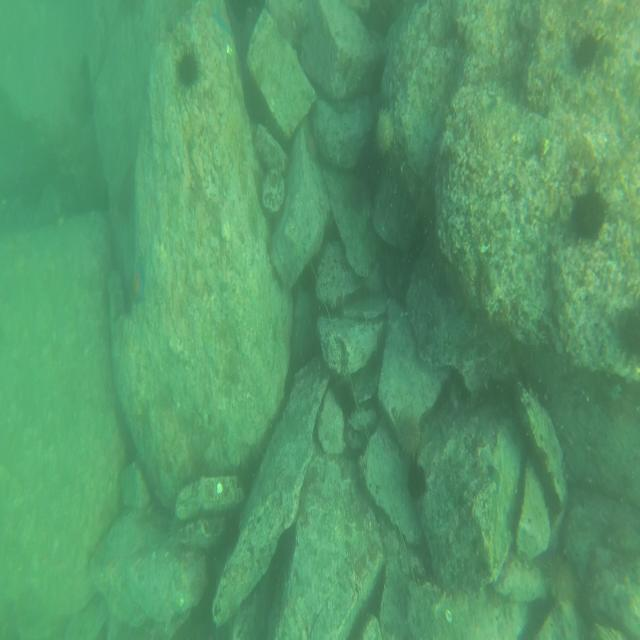echinus: (569, 186, 605, 242), (544, 555, 580, 605), (617, 301, 640, 358), (374, 103, 398, 154), (173, 46, 201, 88), (398, 412, 424, 457), (577, 27, 599, 73), (334, 378, 359, 416), (404, 464, 428, 496)
starfish: (125, 266, 148, 306), (212, 1, 236, 33)
